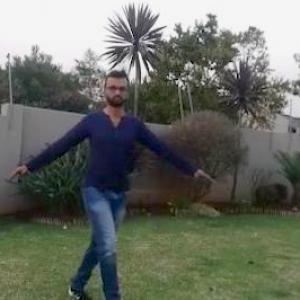land: (31, 81, 172, 253)
